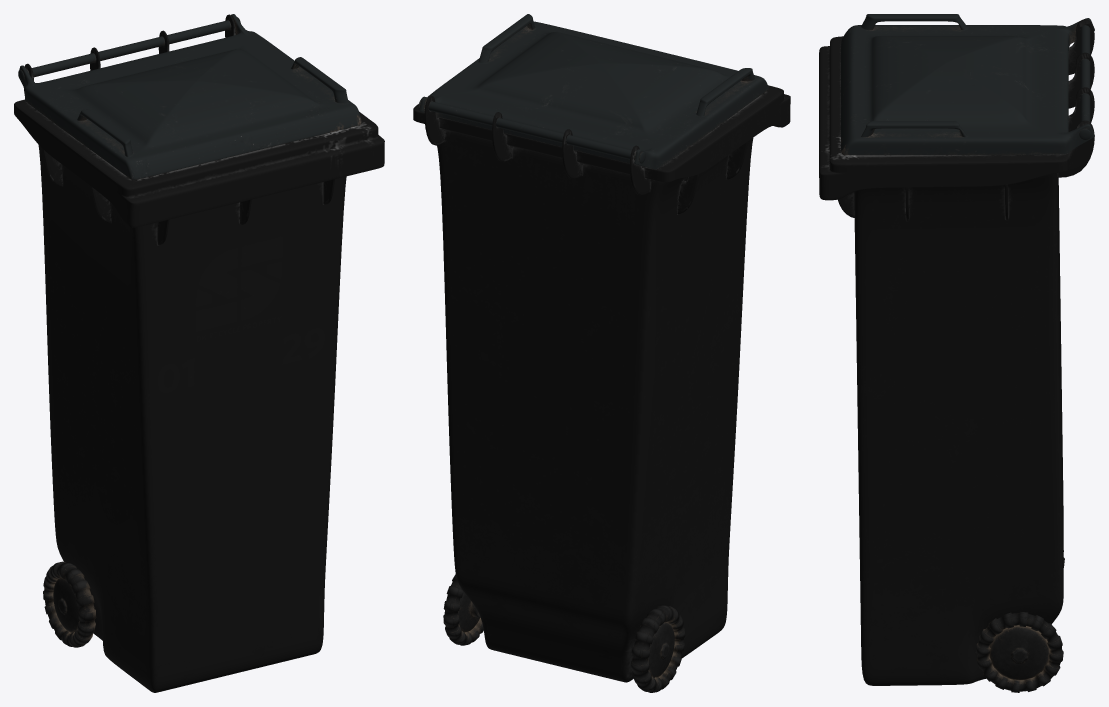
The model's file is musorka.glb.
The picture shows the model from 3 angles, left to right: view 1: azimuth 30°, elevation 25°; view 2: azimuth 150°, elevation 25°; view 3: azimuth 270°, elevation 25°; orthographic projection. The views are drawn at different scales.
Visible parts, largest first — view 1: Trash_Can, Trash_Cap, Trash_Wheels; view 2: Trash_Can, Trash_Cap, Trash_Wheels; view 3: Trash_Can, Trash_Cap, Trash_Wheels.
Part boxes in pixels (x1,y1,x2,y2): Trash_Can: [14, 14, 384, 692]; Trash_Cap: [18, 14, 361, 179]; Trash_Wheels: [43, 561, 96, 647]; Trash_Can: [413, 85, 790, 682]; Trash_Cap: [418, 14, 768, 169]; Trash_Wheels: [443, 574, 685, 692]; Trash_Can: [819, 19, 1094, 685]; Trash_Cap: [841, 14, 1094, 155]; Trash_Wheels: [975, 550, 1064, 692].
Bounding box in the file's own units: 0.4967 × 1.05 × 0.4512.
Materials: 3 (3 with a texture image).
